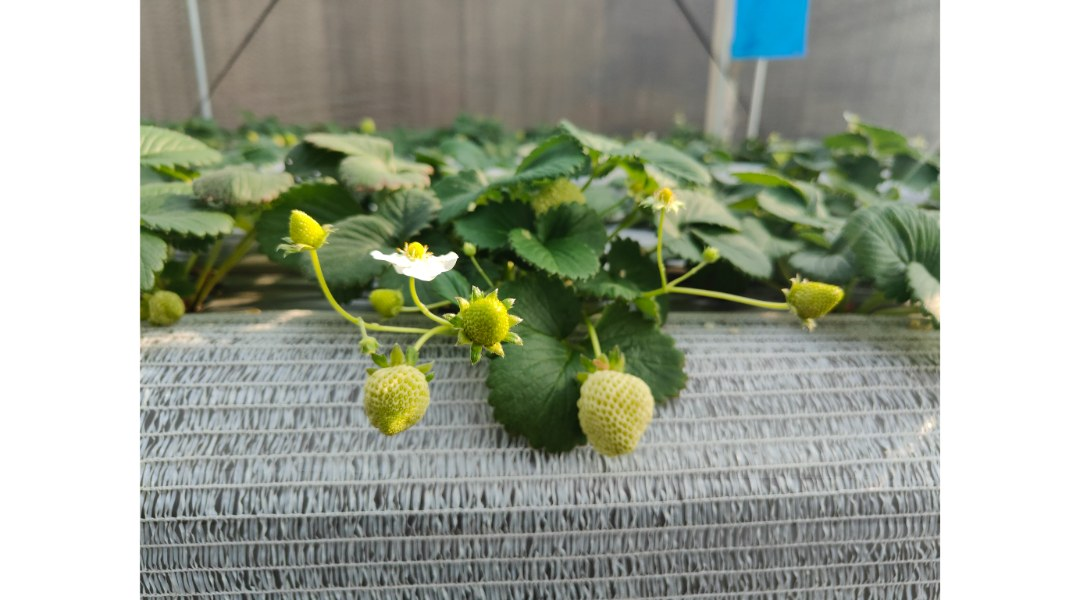berry: (354, 352, 438, 453), (454, 283, 520, 372), (786, 262, 851, 336), (275, 199, 333, 261), (637, 189, 685, 209)
flower: (364, 237, 469, 288)
strain: (575, 362, 655, 465), (685, 282, 780, 321), (306, 246, 352, 316), (649, 213, 669, 284), (580, 324, 606, 373)
